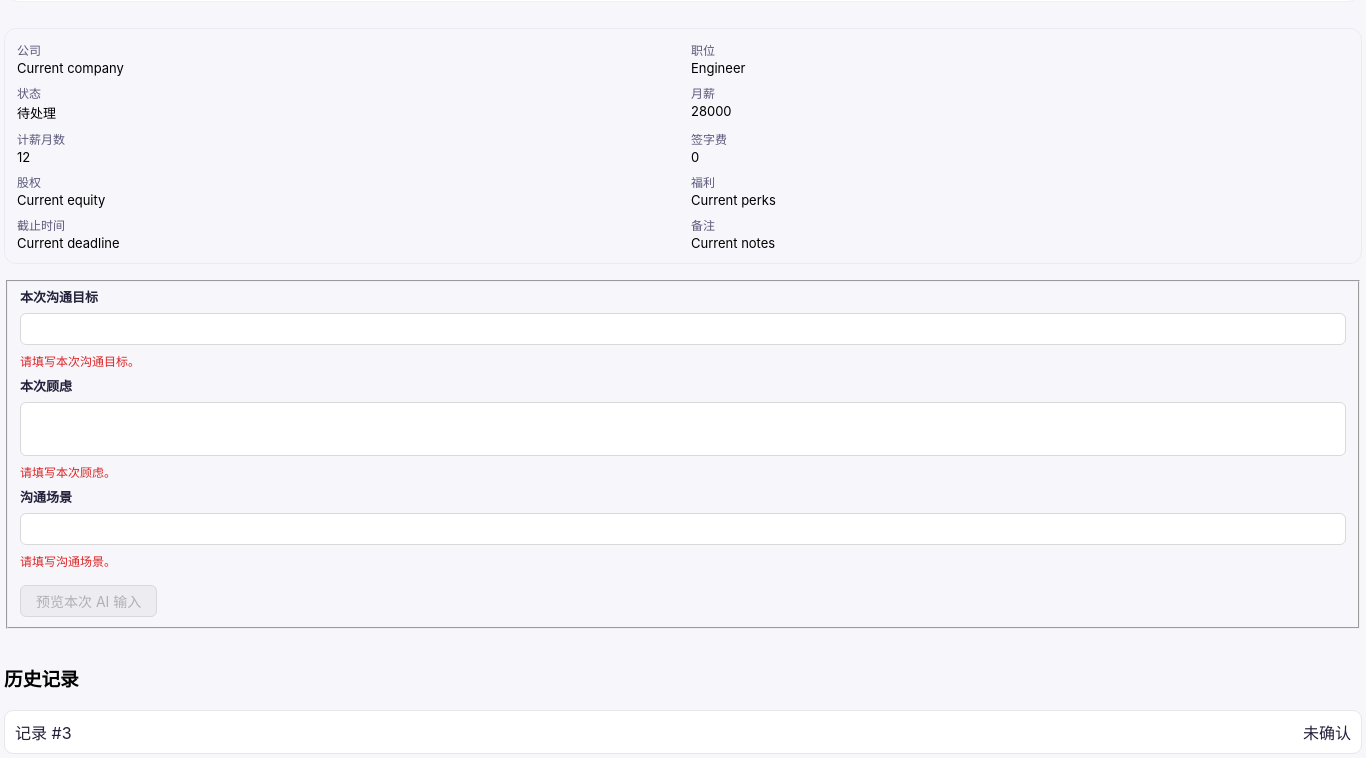
Test: OfferNegotiationDrawer › renders history from the proposal snapshot rather than the current Offer
This screenshot has width=1366, height=758.
(page scrolled)
Click the button "记录 #3 未确认" at (38, 733), box [4,710,1362,754]
(page scrolled)
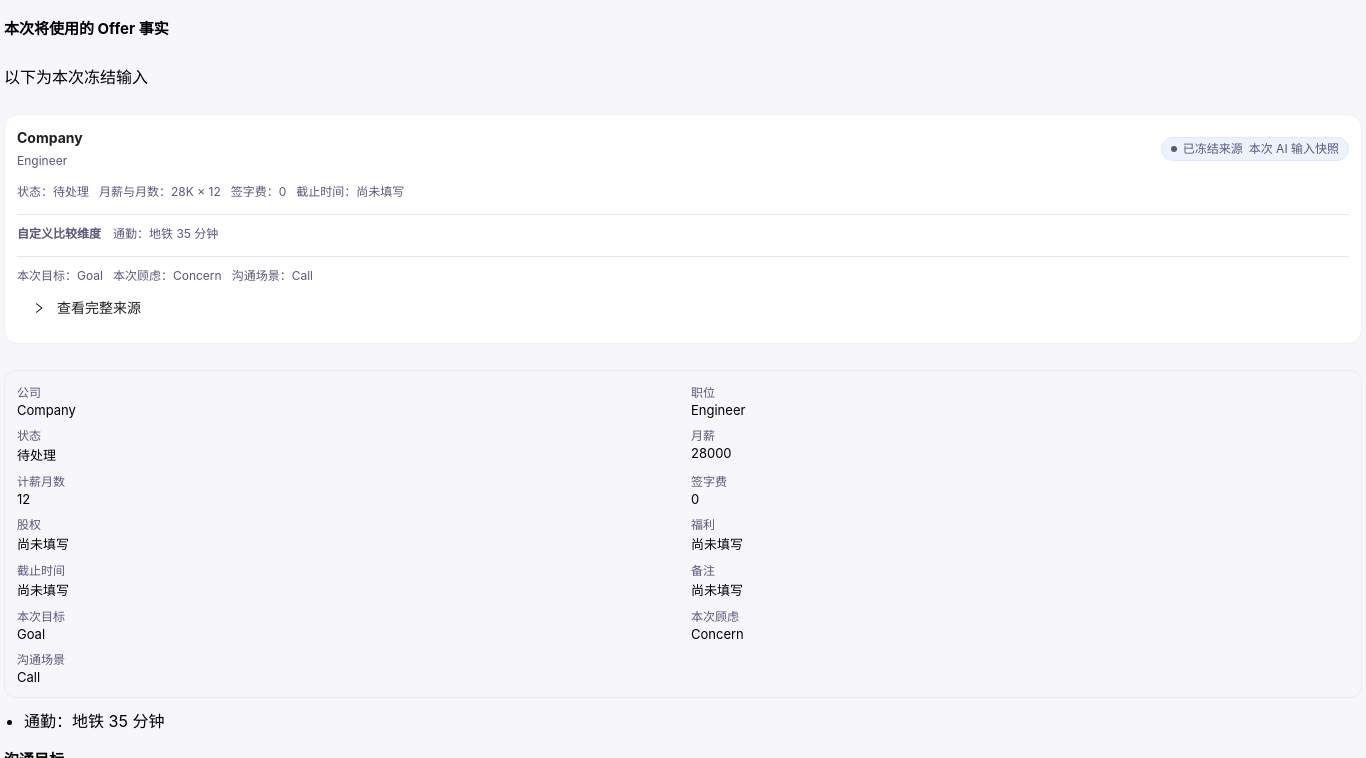
Now the text with test id "offer-negotiation-input-facts" no longer shows "Current equity"
Now the text with test id "offer-negotiation-input-facts" no longer shows "Current perks"
Now the text with test id "offer-negotiation-input-facts" no longer shows "Current notes"
